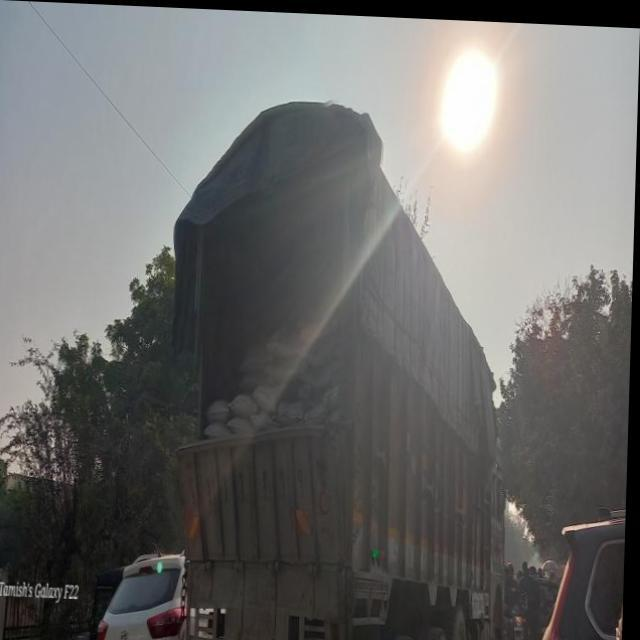covered: (163, 78, 513, 632)
